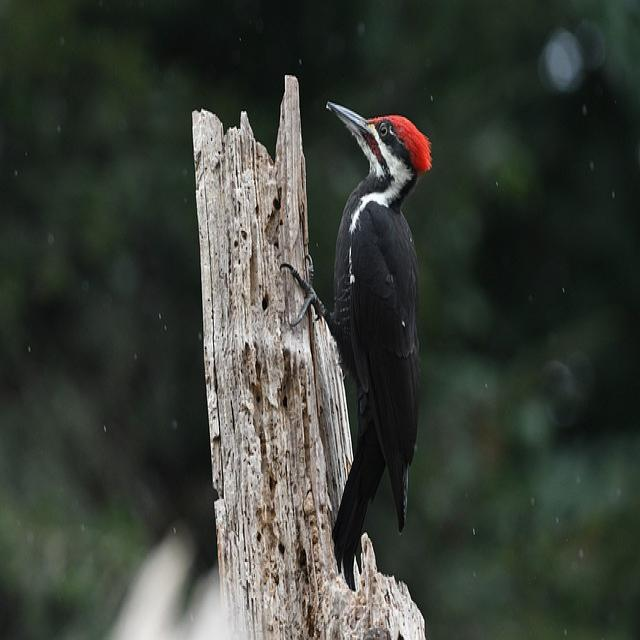Woodpecker: (309, 93, 439, 557)
